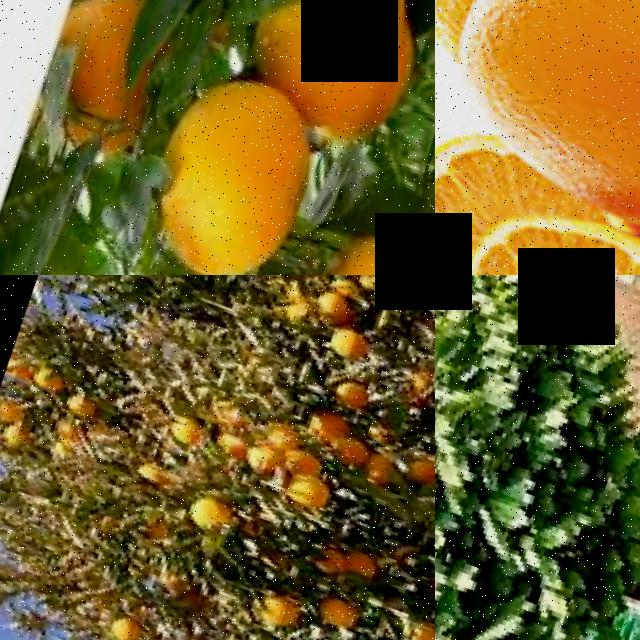orange: (435, 0, 640, 244), (132, 57, 327, 275), (238, 0, 422, 129), (435, 193, 640, 275), (284, 223, 435, 275), (303, 398, 354, 446), (280, 466, 331, 511), (253, 587, 302, 630), (183, 490, 231, 531), (313, 591, 360, 631), (324, 322, 371, 361), (306, 282, 352, 321)
